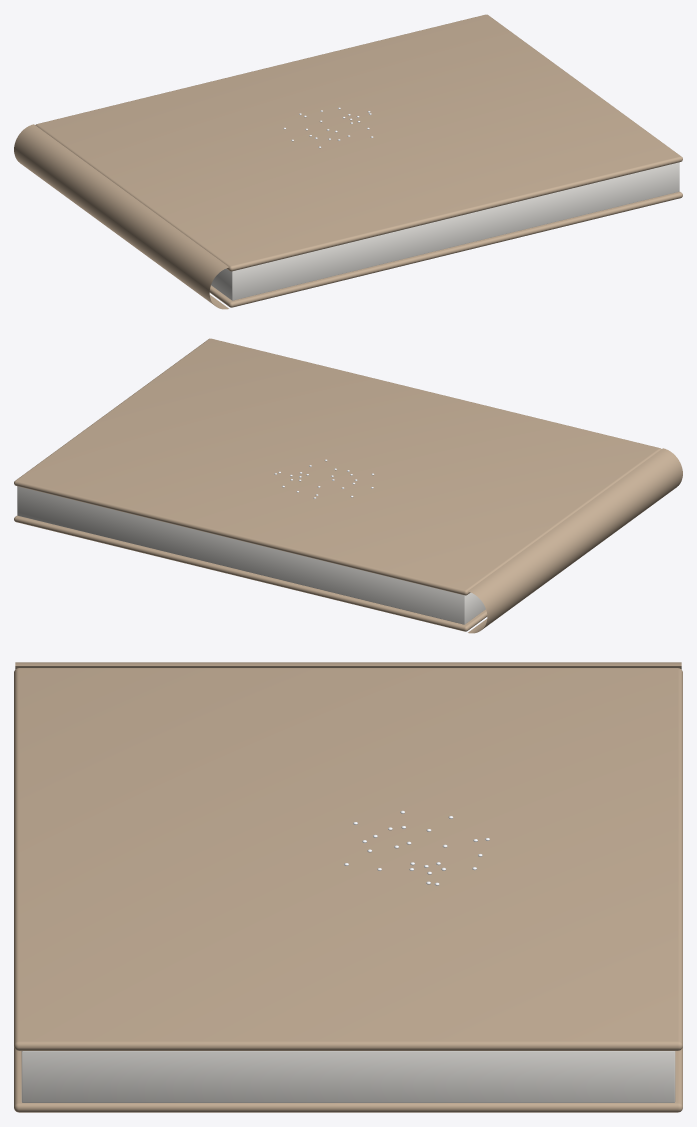
File: swarovski-cluster--landscape.glb
3 views of the same model, one above another, from view 1: azimuth 30°, elevation 25°; view 2: azimuth 150°, elevation 25°; view 3: azimuth 270°, elevation 25° (orthographic). The views are drawn at different scales.
Parts seen in each view (by area): view 1: CoverFront, Pages, Spine, CoverBack; view 2: CoverFront, Pages, Spine, CoverBack; view 3: CoverFront, Pages, CoverBack, Spine.
Part boxes in pixels (x1,y1,x2,y2): CoverFront: (35, 14, 682, 271); Pages: (211, 162, 679, 300); Spine: (14, 124, 228, 309); CoverBack: (209, 191, 682, 307); CoverFront: (14, 338, 661, 595); Pages: (17, 486, 485, 624); Spine: (468, 448, 682, 633); CoverBack: (14, 515, 487, 631); CoverFront: (14, 668, 682, 1050); Pages: (21, 1051, 675, 1102); CoverBack: (14, 1047, 682, 1112); Spine: (15, 662, 681, 669).
Bounding box in the file's own units: 0.4179 × 0.036 × 0.3.
